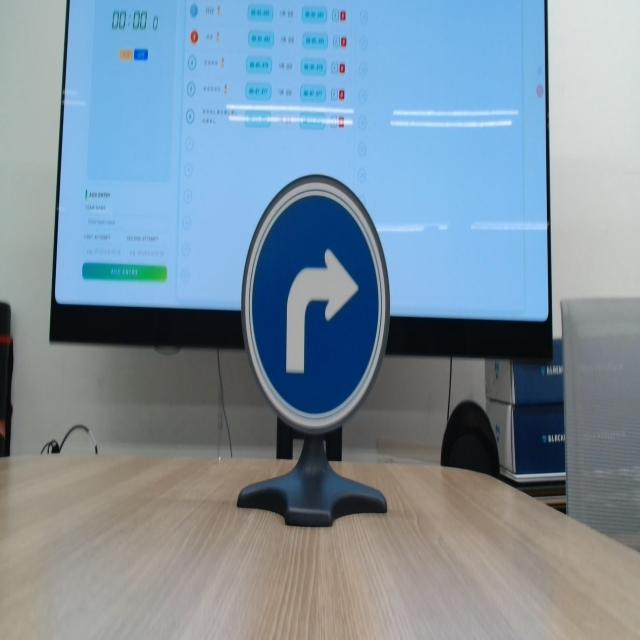right_dierection: (235, 151, 412, 472)
